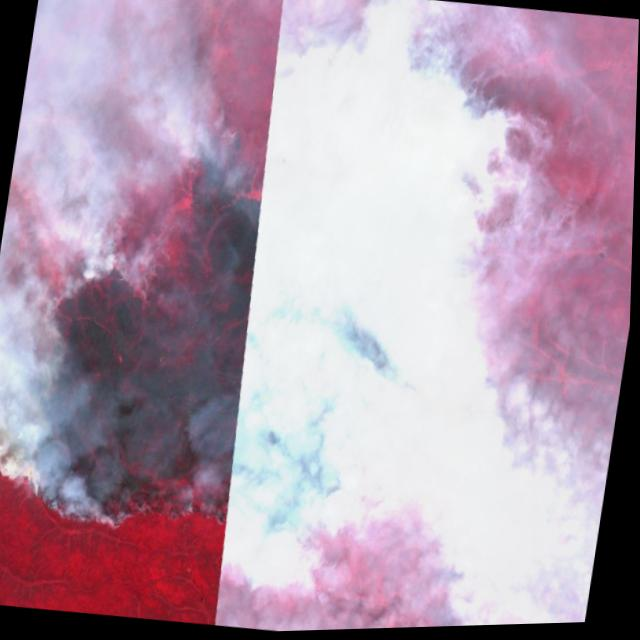fire: (0, 74, 519, 614)
